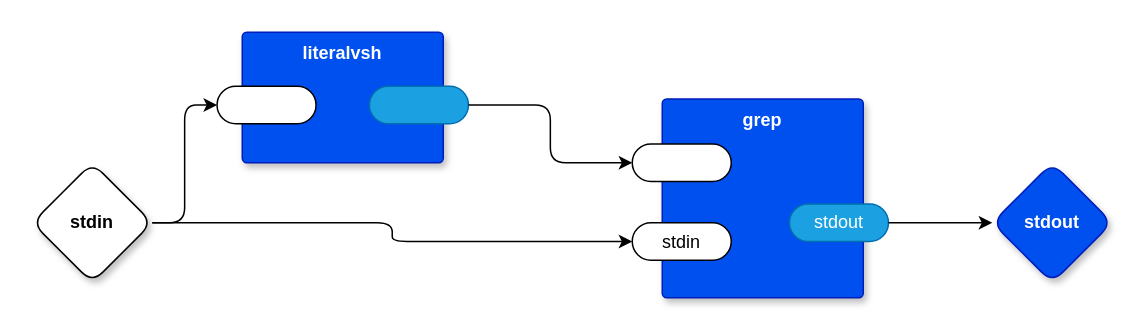
The diagram is 1148 pixels wide and 335 high, and some of its shapes have lost their labels. Each missing label, with the centre of its shape:
args: pixel 681 162
literal: pixel 418 104
start: pixel 266 104
